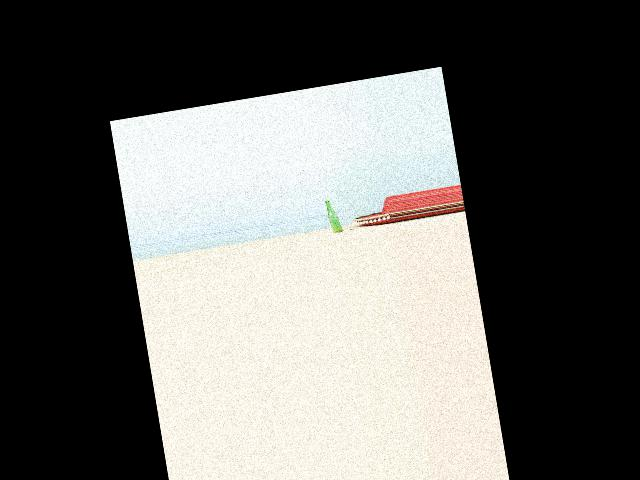beer: (325, 198, 342, 234)
